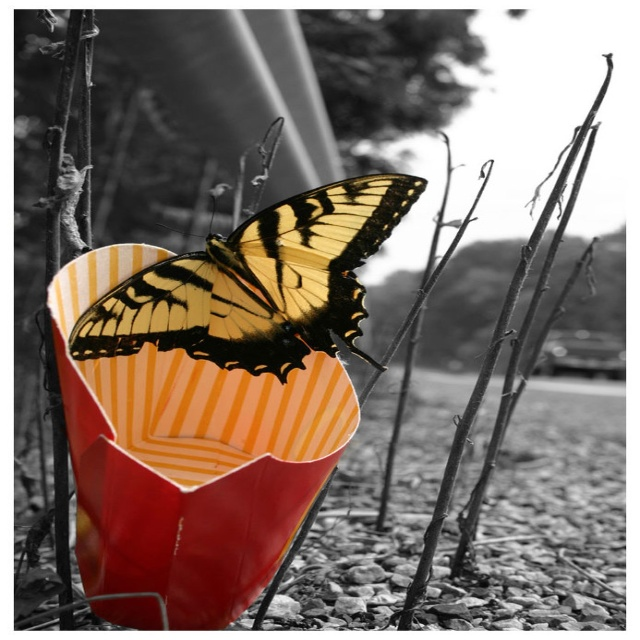Butterfly: (50, 152, 409, 407)
